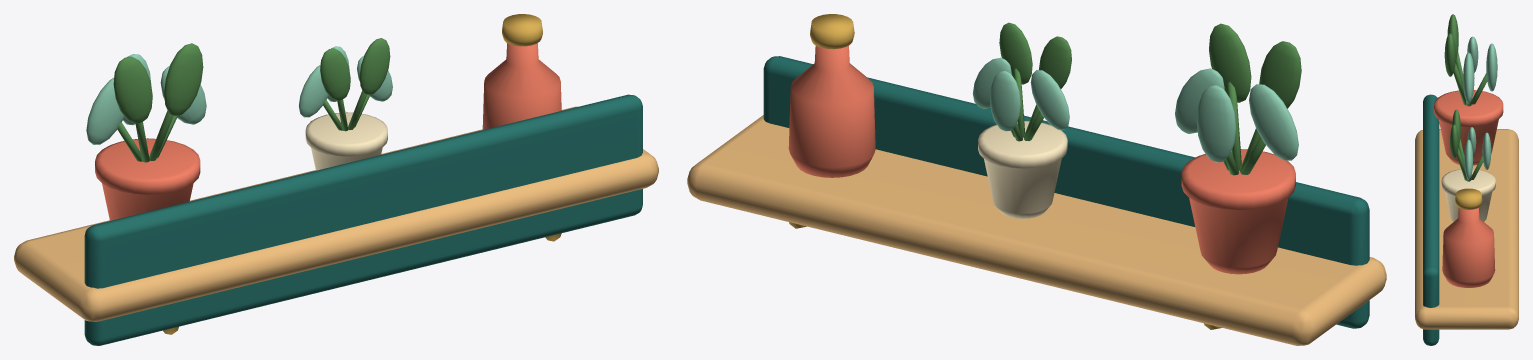
The model's file is BotanicalShelf.fbx.
The picture shows the model from 3 angles, left to right: view 1: azimuth 30°, elevation 25°; view 2: azimuth 150°, elevation 25°; view 3: azimuth 270°, elevation 25°; orthographic projection. The views are drawn at different scales.
Parts seen in each view (by area): view 1: BotanicalShelf_Visual; view 2: BotanicalShelf_Visual; view 3: BotanicalShelf_Visual.
Part boxes in pixels (x1=…): BotanicalShelf_Visual: x1=14, y1=14, x2=658, y2=345; BotanicalShelf_Visual: x1=687, y1=14, x2=1386, y2=345; BotanicalShelf_Visual: x1=1415, y1=14, x2=1518, y2=345.
Size of the model in its own units: 1.48 by 0.6691 by 0.35.
